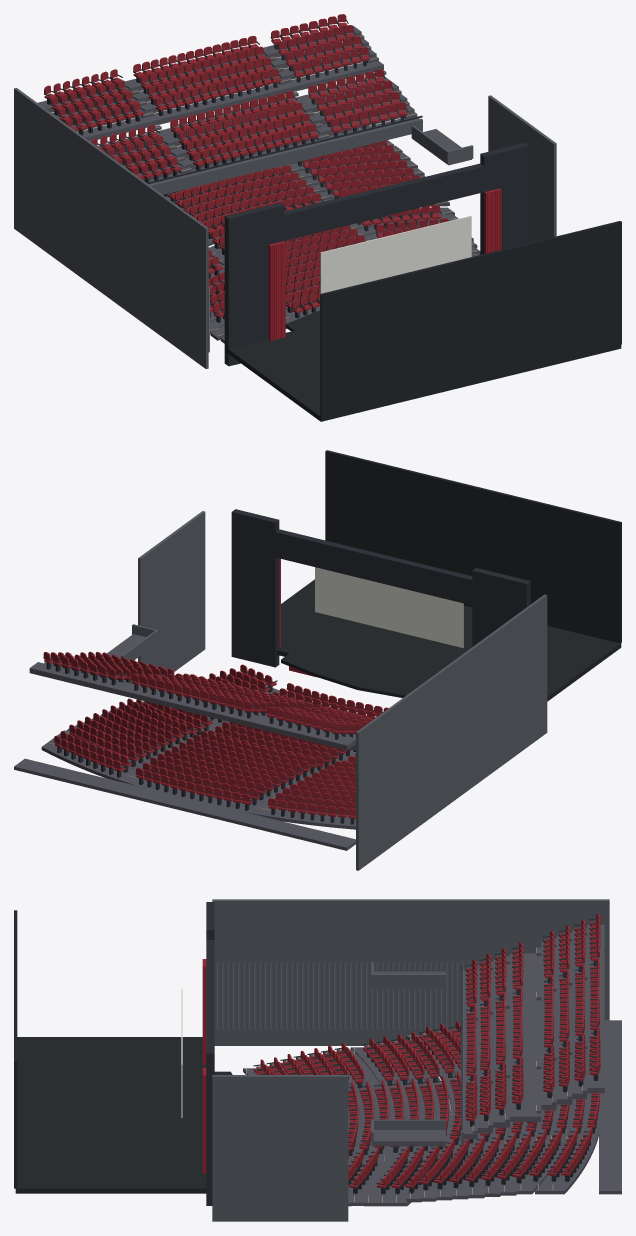
File: pea-interior.glb
3 renders of one model, top to bottom at view 1: azimuth 30°, elevation 25°; view 2: azimuth 150°, elevation 25°; view 3: azimuth 270°, elevation 25°, orthographic. The views are drawn at different scales.
Parts seen in each view (by area): view 1: PEA_INTERIOR; view 2: PEA_INTERIOR; view 3: PEA_INTERIOR.
Part boxes in pixels (x1,y1,x2,y2): PEA_INTERIOR: [14, 14, 621, 421]; PEA_INTERIOR: [14, 450, 621, 870]; PEA_INTERIOR: [14, 899, 621, 1221].
Size of the model in its own units: 22.78 by 9.35 by 33.07.
